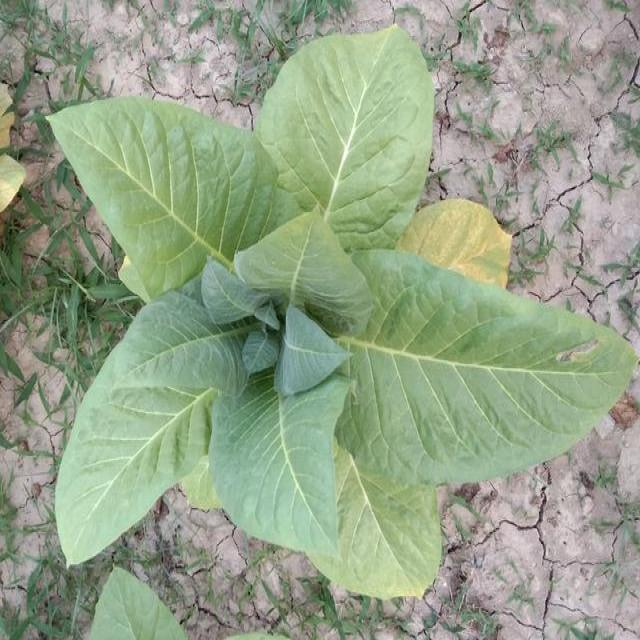crop: (47, 22, 635, 604), (86, 571, 195, 640), (0, 80, 27, 204)
